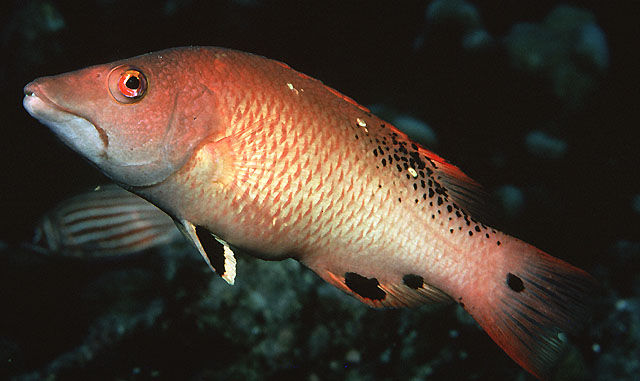fish: (23, 46, 592, 380)
